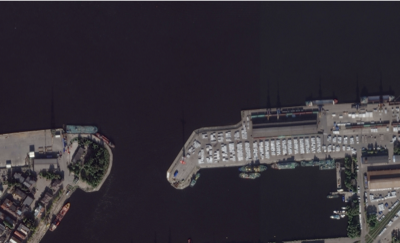boat: (49, 202, 71, 231), (66, 124, 99, 134), (360, 94, 395, 103), (96, 133, 115, 148), (305, 98, 338, 106), (270, 161, 300, 169), (238, 164, 268, 172), (189, 172, 201, 187), (239, 172, 261, 179), (326, 194, 340, 198), (330, 215, 340, 218), (342, 193, 345, 202), (341, 206, 348, 209), (337, 189, 344, 191), (340, 214, 346, 216), (333, 210, 339, 212), (336, 217, 341, 219), (340, 210, 345, 212), (345, 200, 349, 202), (341, 216, 344, 217)
